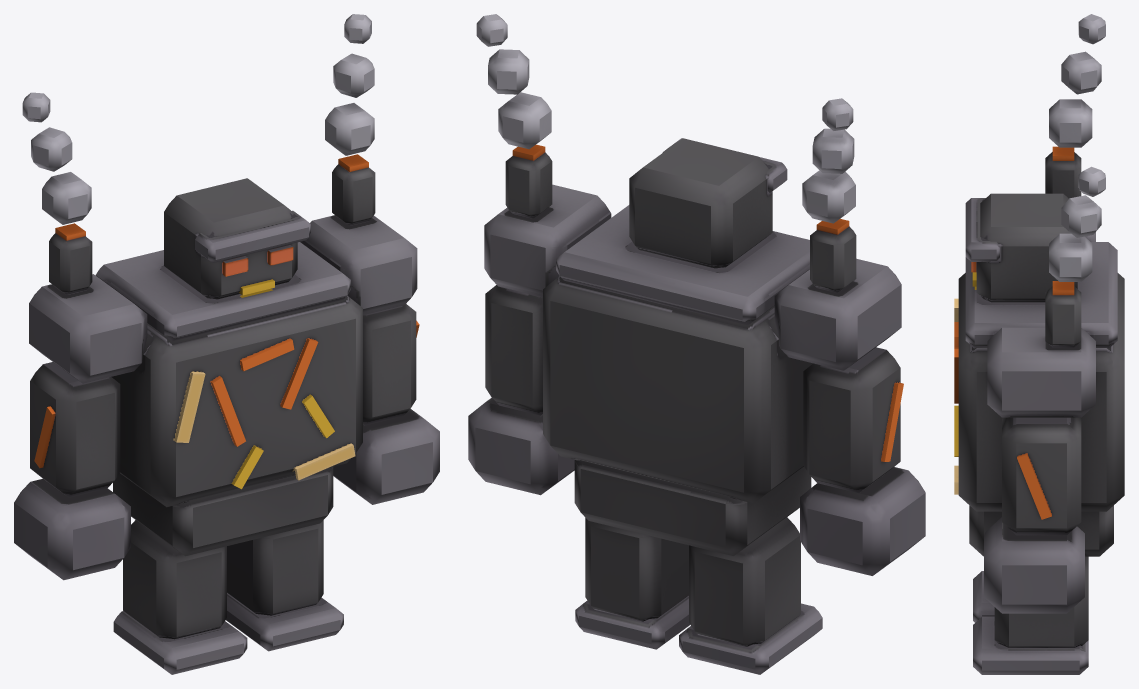
Rendered from GolemCendre_Rig.fbx.
3 renders of one model, left to right at view 1: azimuth 30°, elevation 25°; view 2: azimuth 150°, elevation 25°; view 3: azimuth 270°, elevation 25°, orthographic. The views are drawn at different scales.
Visible parts, largest first — view 1: Body, ArmR, LegR, Head, ArmL, LegL, Smoke1, Smoke0; view 2: Body, ArmR, Head, LegR, ArmL, LegL, Smoke0, Smoke1; view 3: Body, ArmL, Head, LegL, Smoke1, Smoke0, LegR.
Part boxes in pixels (x1,y1,x2,y2): Body: (29, 154, 417, 556); ArmR: (14, 362, 130, 580); LegR: (113, 520, 247, 674); Head: (164, 178, 310, 299); ArmL: (333, 304, 439, 504); LegL: (226, 520, 343, 651); Smoke1: (22, 92, 91, 224); Smoke0: (325, 14, 374, 155); Body: (484, 144, 901, 555); ArmR: (800, 347, 925, 575); Head: (629, 138, 787, 268); LegR: (679, 517, 822, 674); ArmL: (468, 285, 574, 495); LegL: (575, 518, 690, 649); Smoke0: (476, 14, 551, 149); Smoke1: (802, 98, 855, 223); Body: (954, 146, 1124, 556); ArmL: (984, 417, 1084, 613); Head: (965, 193, 1077, 302); LegL: (973, 556, 1088, 674); Smoke1: (1049, 14, 1105, 147); Smoke0: (1049, 166, 1105, 281); LegR: (973, 571, 994, 622).
Bounding box in the file's own units: 4.42 × 6 × 1.71.
Materials: 1 (1 with a texture image).
